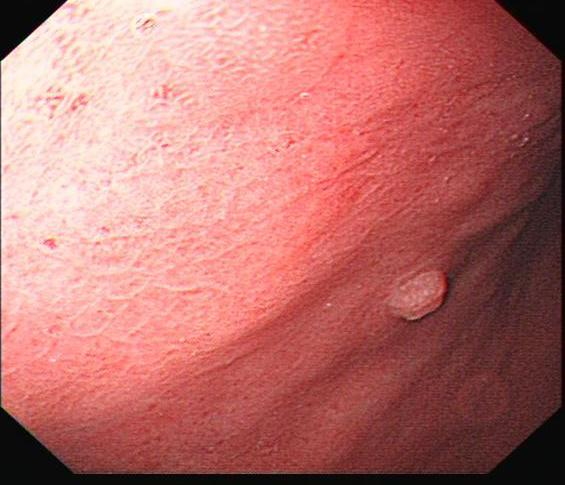Polyp: (378, 265, 452, 332)
